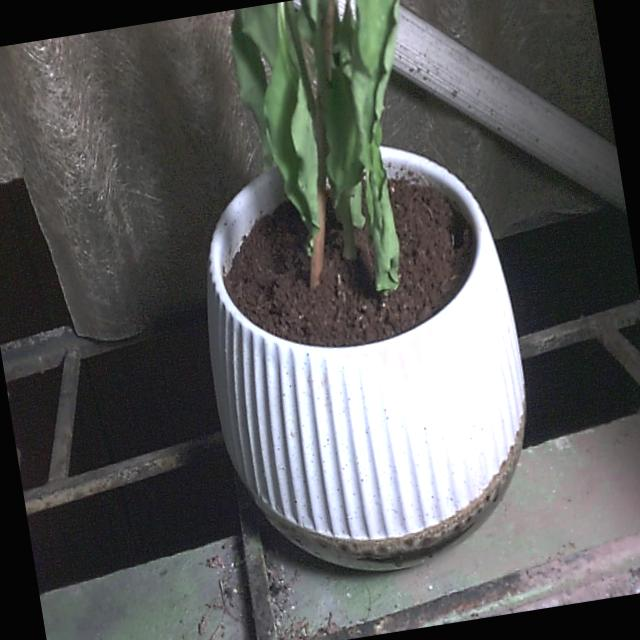Leaf: (334, 0, 433, 218), (254, 48, 336, 262), (227, 2, 314, 171)
